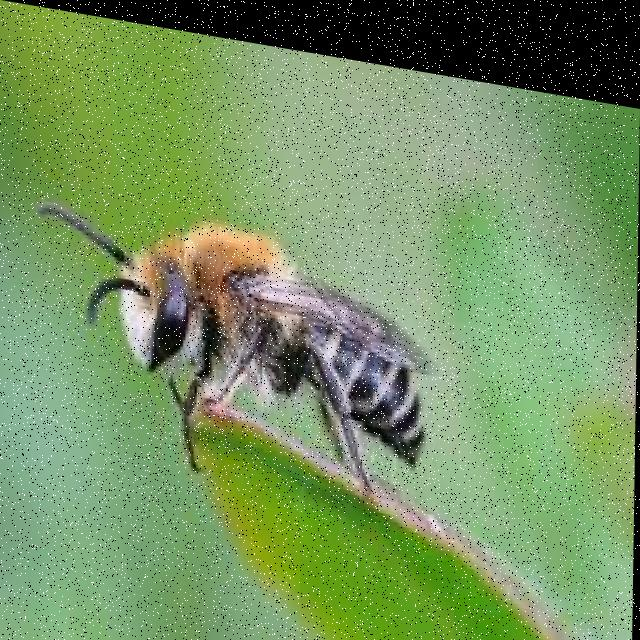Apis-mellifera-scutellata: (22, 150, 442, 517)
